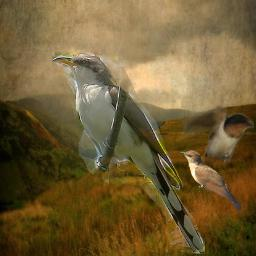Cuckoo: (52, 52, 205, 254), (179, 150, 241, 211)
Swallow: (181, 105, 254, 163)
